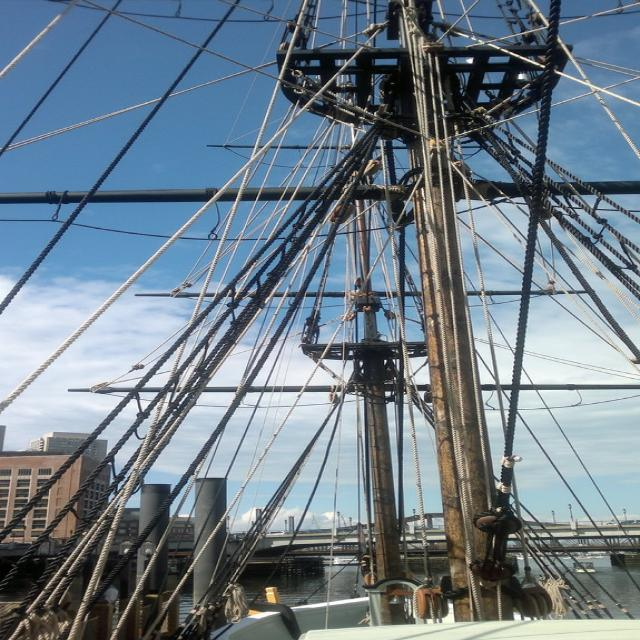Boat: (21, 0, 633, 640)
